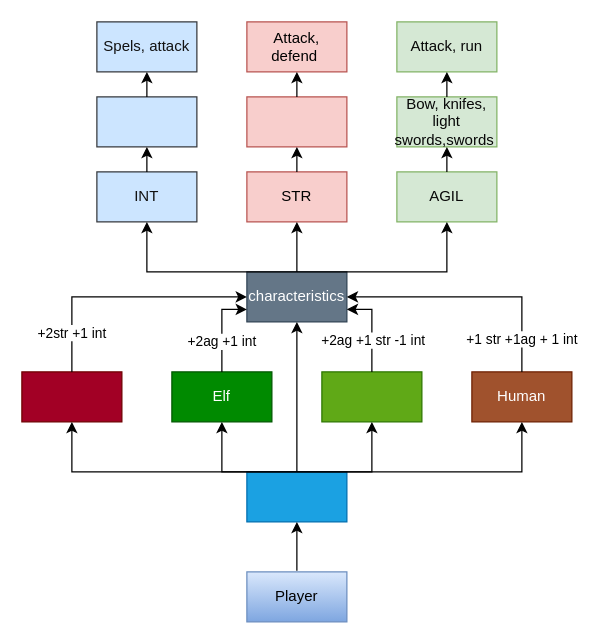
This 599x644 diagram has some shape labels left out. The shapes that lost their labels are listed below. From the top down, each one's centre as x and y in pixels, then its label:
At [146,121]: "Staves, magick spears".
At [296,121]: "Swords, Axes, Heavy swords".
At [71,396]: "Dwarf".
At [371,396]: "Goblin".
At [296,496]: "Rase".
